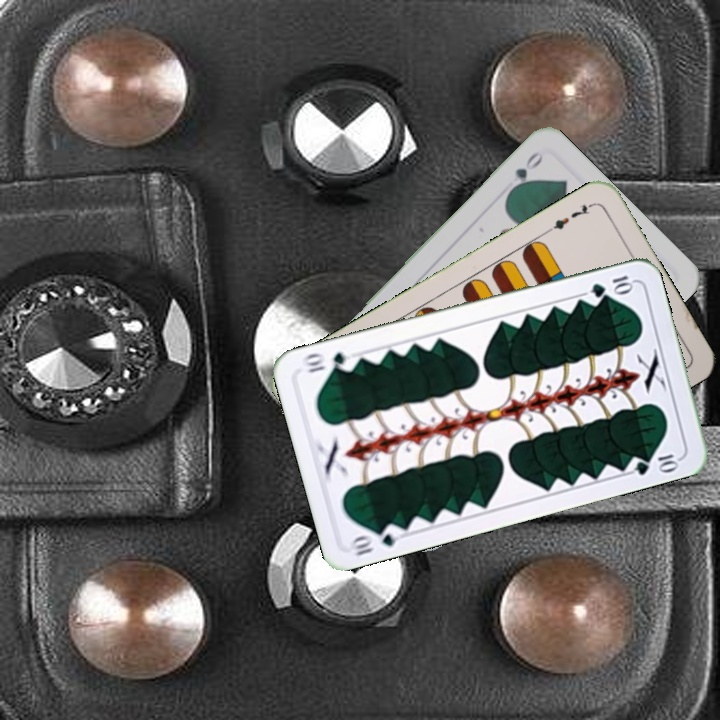E7: (543, 199, 597, 236)
G10: (345, 520, 405, 558), (587, 271, 636, 300)
GO: (504, 147, 546, 197)
